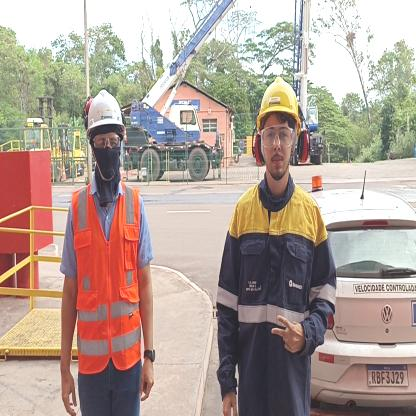Balaclava: (89, 128, 122, 198)
C_eletrica: (212, 189, 334, 416)
Capacete: (259, 72, 299, 121), (84, 89, 122, 129)
colete: (72, 191, 143, 370)
